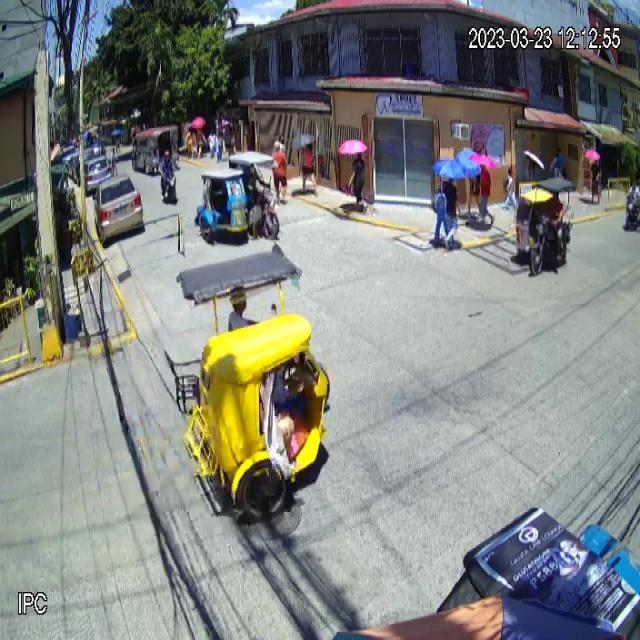Car: (94, 175, 143, 240)
Tricycle: (165, 250, 332, 524), (195, 151, 280, 244), (516, 178, 575, 275)
